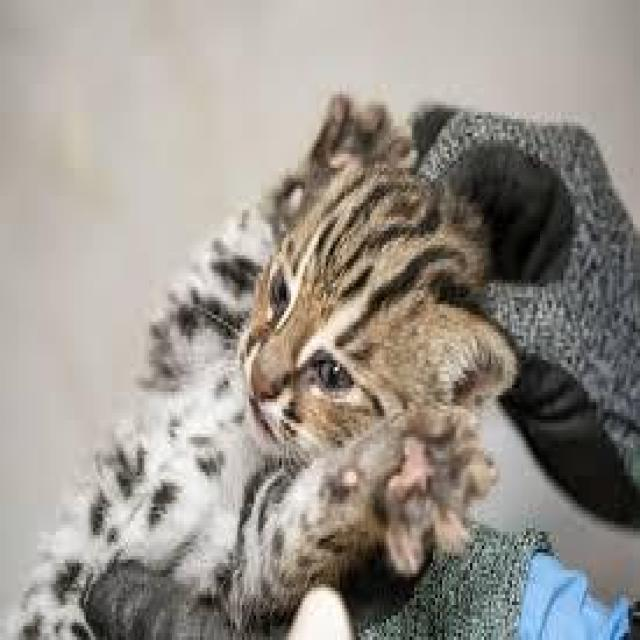leopard: (235, 77, 587, 598)
